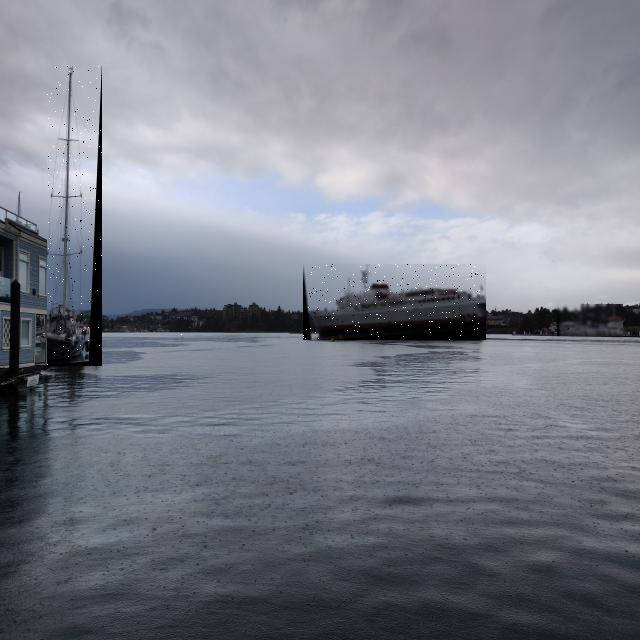boat: (47, 66, 102, 366), (303, 264, 486, 340), (557, 304, 623, 336), (592, 322, 630, 336)
mark: (331, 336, 334, 342), (182, 334, 184, 337)
